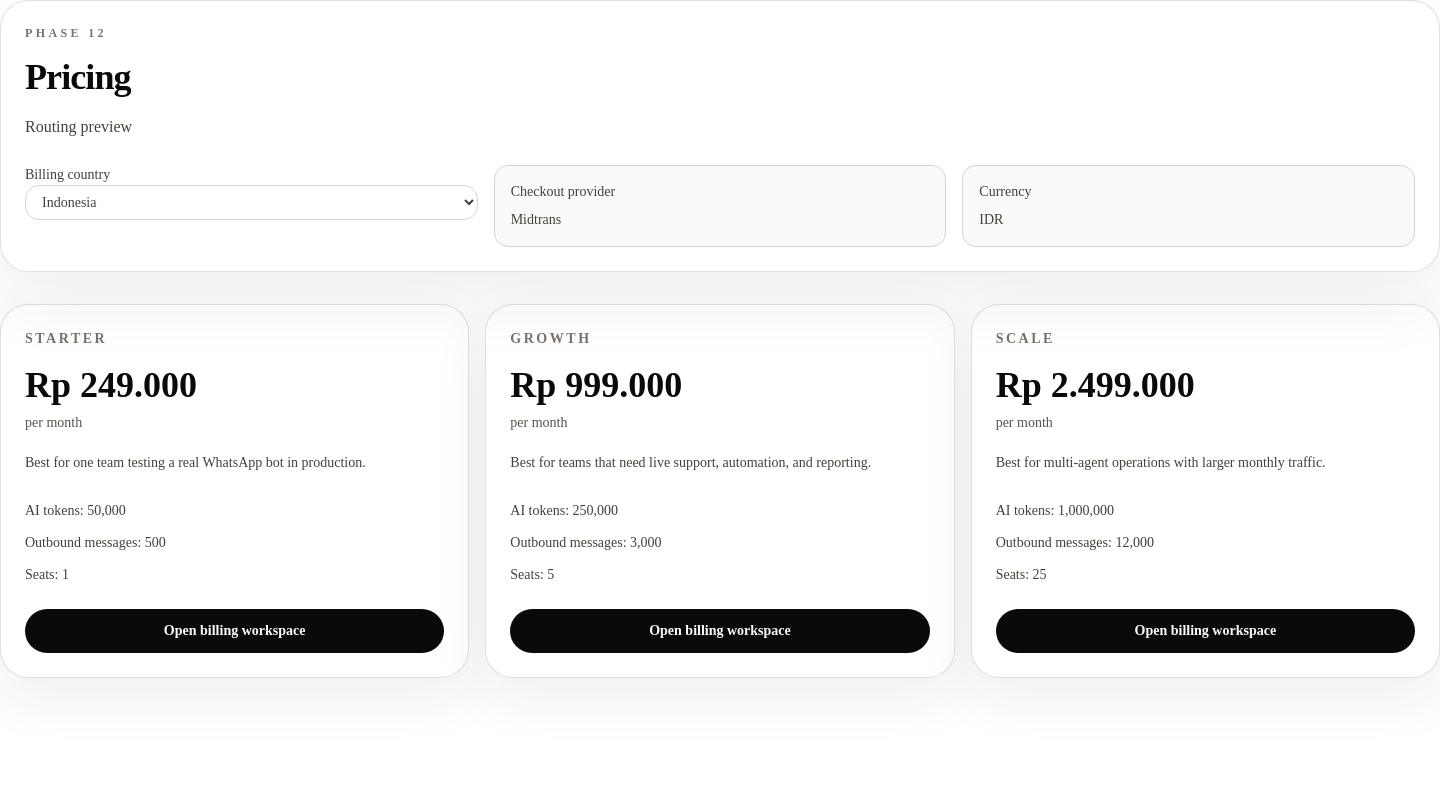
it: Pricing page › switches provider and currency based on the selected country
The width and height of the screenshot is (1440, 810).
Expected: the text "midtrans" is shown, 511,212 -> 561,227
Expected: the text "IDR" is shown, 979,212 -> 1003,227
Select "United States" in the dropdown labelled "Billing country" at (251, 202), box 25,185 -> 478,220
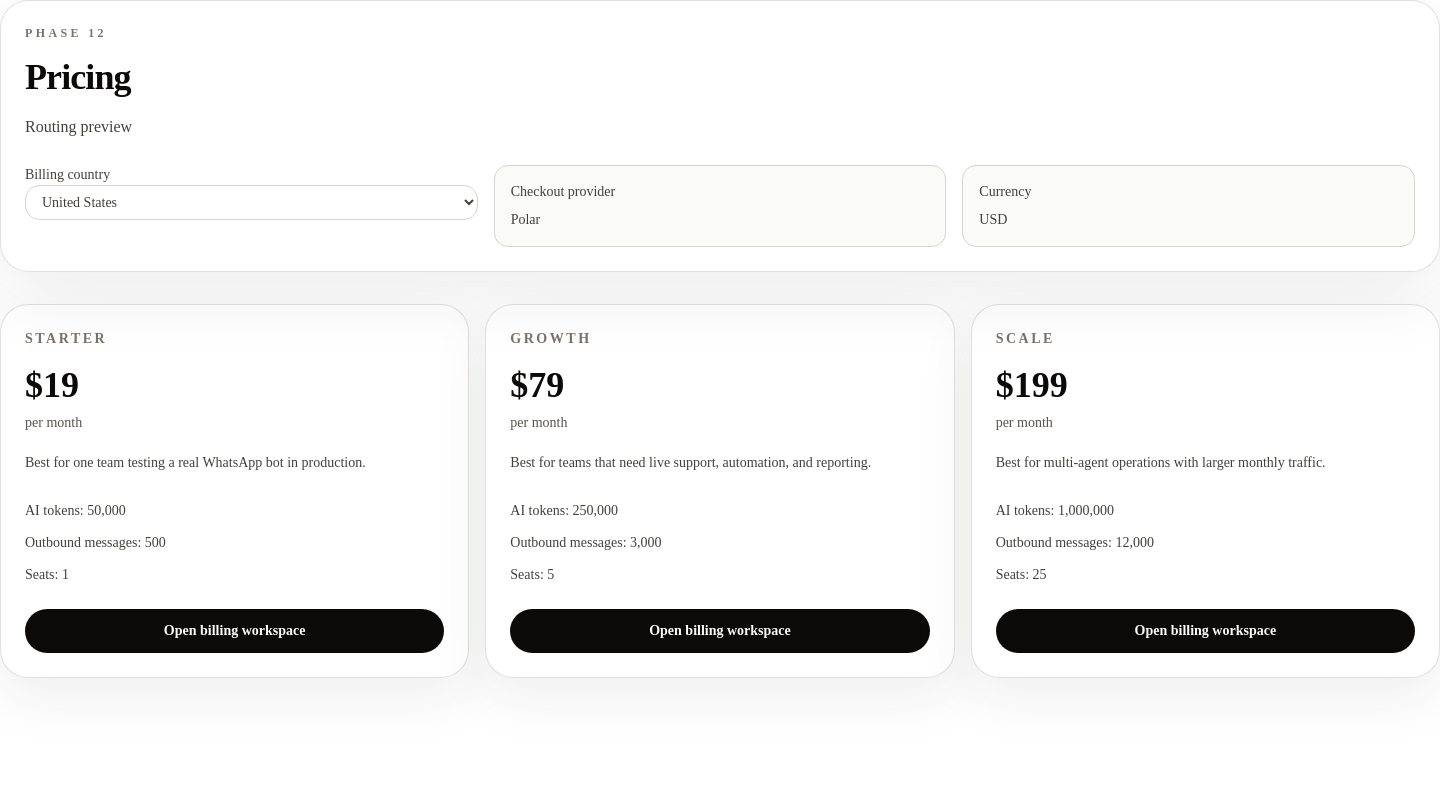
Result: the text "polar" is shown at 511,212 -> 540,227
Result: the text "USD" is shown at 979,212 -> 1007,227
